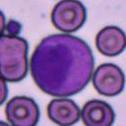M: (30, 33, 94, 97)
